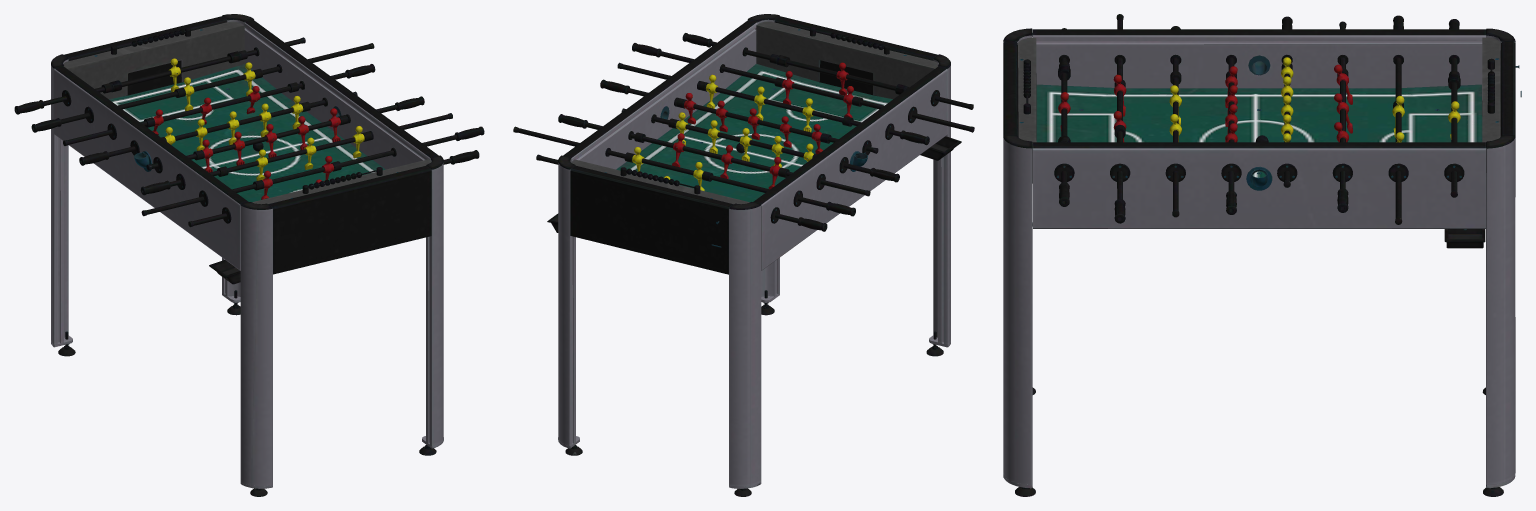
File: football_table_optimized_version.glb
The picture shows the model from 3 angles, left to right: view 1: azimuth 30°, elevation 25°; view 2: azimuth 150°, elevation 25°; view 3: azimuth 270°, elevation 25°; orthographic projection. The views are drawn at different scales.
Parts seen in each view (by area): view 1: Object_2, Object_3; view 2: Object_2, Object_3; view 3: Object_2, Object_3.
Boxes of the visible parts, x1,y1,x2,y2 form: Object_2: (14, 14, 484, 496); Object_3: (16, 16, 468, 490); Object_2: (513, 14, 974, 496); Object_3: (547, 16, 961, 490); Object_2: (1003, 14, 1521, 496); Object_3: (1003, 16, 1521, 488).
Size of the model in its own units: 51.46 by 42.16 by 54.98.
Materials: 1 (1 with a texture image).
